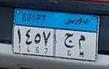1: (17, 28, 21, 44)
4: (25, 29, 31, 46)
5: (33, 33, 42, 45)
7: (42, 30, 52, 45)
jeem: (64, 32, 74, 49)
meem: (76, 35, 86, 49)
